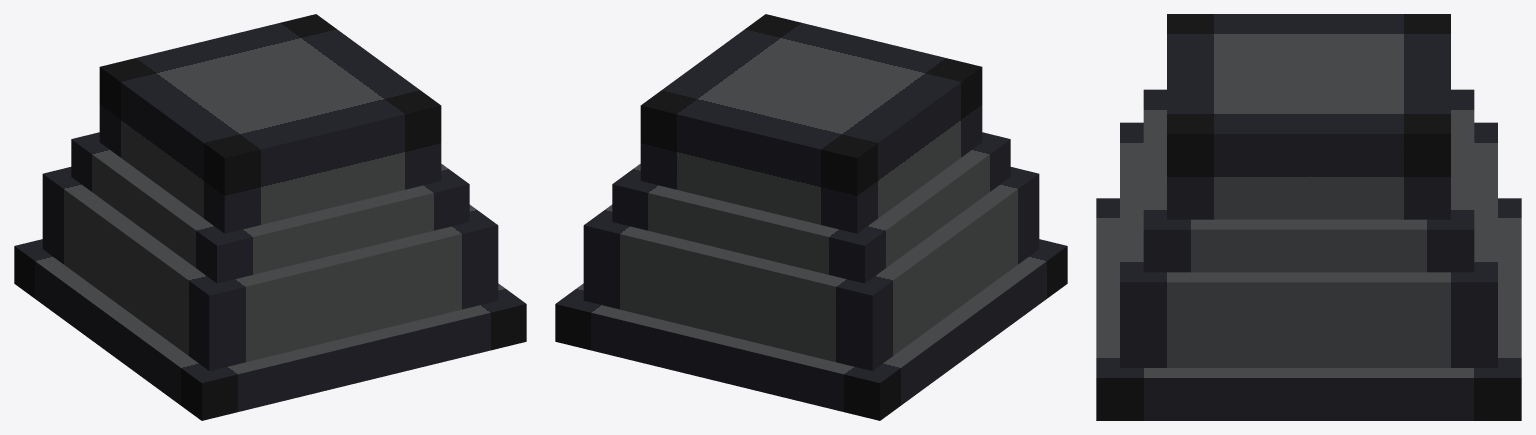
File: cable_pull.obj
3 renders of one model, left to right at view 1: azimuth 30°, elevation 25°; view 2: azimuth 150°, elevation 25°; view 3: azimuth 270°, elevation 25°, orthographic. The views are drawn at different scales.
Parts seen in each view (by area): view 1: connection1, connection3, connection4, connection2; view 2: connection1, connection3, connection4, connection2; view 3: connection1, connection3, connection4, connection2.
Boxes of the visible parts, left/top/right/bottom form: connection1: left=99, top=14, right=441, bottom=233; connection3: left=42, top=167, right=498, bottom=370; connection4: left=14, top=239, right=526, bottom=420; connection2: left=71, top=132, right=469, bottom=283; connection1: left=640, top=14, right=982, bottom=233; connection3: left=583, top=167, right=1039, bottom=370; connection4: left=555, top=239, right=1067, bottom=420; connection2: left=612, top=132, right=1010, bottom=283; connection1: left=1167, top=14, right=1450, bottom=219; connection3: left=1120, top=122, right=1497, bottom=367; connection4: left=1096, top=198, right=1521, bottom=420; connection2: left=1143, top=89, right=1474, bottom=272.
Size of the model in its own units: 0.5625 by 0.375 by 0.5625.
